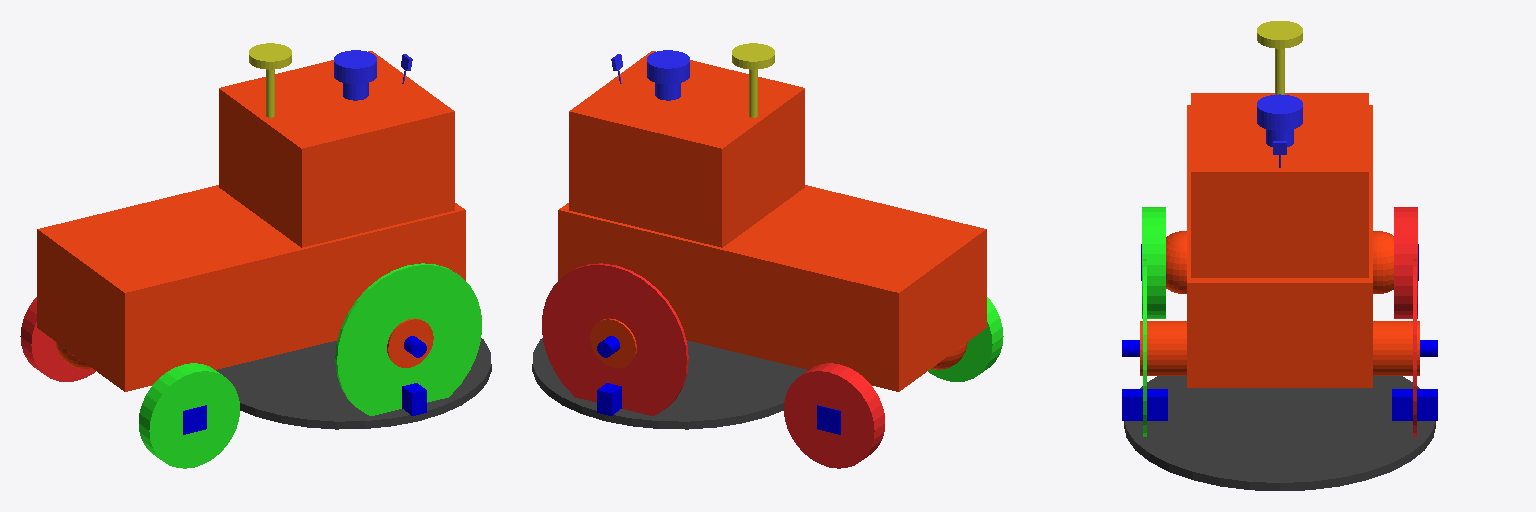
--- Facts derived from the render (not from the file) ---
The picture shows the robot from 3 angles, left to right: view 1: azimuth 30°, elevation 25°; view 2: azimuth 150°, elevation 25°; view 3: azimuth 270°, elevation 25°; orthographic projection.
Robot: robot — 13 links, 12 joints (4 continuous, 8 fixed); root link base_link; default pose: every joint at zero.
Links seen in each view (by area): view 1: chassis_link, right_wheel, base_footprint, right_caster_wheel, left_caster_wheel, laser_frame, gps_link; view 2: chassis_link, left_wheel, base_footprint, left_caster_wheel, right_caster_wheel, laser_frame, gps_link; view 3: chassis_link, base_footprint, left_caster_wheel, right_caster_wheel, left_wheel, right_wheel, laser_frame, gps_link.
Boxes of the visible links, left/top/right/bottom form: chassis_link: left=37, top=51, right=465, bottom=391; right_wheel: left=335, top=263, right=481, bottom=415; base_footprint: left=216, top=338, right=491, bottom=429; right_caster_wheel: left=139, top=363, right=239, bottom=468; left_caster_wheel: left=20, top=297, right=95, bottom=381; laser_frame: left=334, top=50, right=376, bottom=100; gps_link: left=249, top=43, right=291, bottom=117; chassis_link: left=558, top=51, right=986, bottom=391; left_wheel: left=542, top=263, right=688, bottom=415; base_footprint: left=532, top=338, right=807, bottom=429; left_caster_wheel: left=784, top=363, right=884, bottom=468; right_caster_wheel: left=928, top=297, right=1003, bottom=381; laser_frame: left=647, top=50, right=689, bottom=100; gps_link: left=732, top=43, right=774, bottom=117; chassis_link: left=1140, top=93, right=1419, bottom=387; base_footprint: left=1124, top=376, right=1435, bottom=490; left_caster_wheel: left=1394, top=207, right=1418, bottom=318; right_caster_wheel: left=1141, top=207, right=1165, bottom=318; left_wheel: left=1392, top=259, right=1437, bottom=436; right_wheel: left=1122, top=259, right=1167, bottom=436; laser_frame: left=1257, top=94, right=1302, bottom=146; gps_link: left=1257, top=21, right=1302, bottom=94.
Size in the robot's own frame: 1.03 by 0.679 by 0.852 metres.
0 mesh visuals loaded from 2 distinct referenced files (none loaded); not drawn: 4 (reference not matched to a file when rendering).

robot.urdf — robot:
<?xml version="1.0" ?>
<!-- =================================================================================== -->
<!-- |    This document was autogenerated by xacro from [local-path]/robot_ws/install/articubot_one/share/articubot_one/description/robot.urdf.xacro | -->
<!-- |    EDITING THIS FILE BY HAND IS NOT RECOMMENDED                                 | -->
<!-- =================================================================================== -->
<robot name="robot">
  <!-- See common Gazebo pugins in the world file -->
  <material name="white">
    <color rgba="1 1 1 1"/>
  </material>
  <material name="black">
    <color rgba="0 0 0 1"/>
  </material>
  <material name="shadow_grey">
    <color rgba="0.3 0.3 0.3 0.5"/>
  </material>
  <material name="red">
    <color rgba="1 0 0 1"/>
  </material>
  <material name="green">
    <color rgba="0 1 0 1"/>
  </material>
  <material name="blue">
    <color rgba="0 0 1 1"/>
  </material>
  <material name="sensor_blue">
    <color rgba="0.2 0.2 1 1"/>
  </material>
  <material name="sensor_yellow">
    <color rgba="0.8 0.8 0.2 1"/>
  </material>
  <material name="body_color">
    <color rgba="1 0.3 0.1 1"/>
  </material>
  <material name="port_red">
    <color rgba="1 0.2 0.2 1"/>
  </material>
  <material name="starboard_green">
    <color rgba="0.2 1 0.2 1"/>
  </material>
  <!-- Specify some standard inertial calculations https://en.wikipedia.org/wiki/List_of_moments_of_inertia -->
  <!-- These make use of xacro's mathematical functionality -->
  <!-- ********************** ROBOT BASE *********************************  -->
  <!-- The coordinate frame called base_link is rigidly attached to the robot root body.
         It is recommended to choose the robot waist as its root body.
         The base_link can be attached to the root in any arbitrary position or orientation;
         for every hardware platform there will be a different place on the base that provides an obvious point of reference.
         Note that REP 103 [1] specifies a preferred orientation for frames.
         See https://www.ros.org/reps/rep-0120.html#base-link -->
  <link name="base_link">
    <visual name="baselink_visual">
      <origin xyz="0 0 0"/>
      <geometry>
        <sphere radius="0.04"/>
      </geometry>
      <material name="red"/>
    </visual>
  </link>
  <!-- ****************** ROBOT BASE FOOTPRINT ***************************  -->
  <!-- The base_footprint is the representation of the robot position on the floor. 
         The floor is usually the level where the supporting leg rests, i.e. z = min(l_sole_z, r_sole_z) where l_sole_z and r_sole_z are the left and right sole height respecitvely.
         The translation component of the frame should be the barycenter of the feet projections on the floor.
         With respect to the odom frame, the roll and pitch angles should be zero and the yaw angle should correspond to the base_link yaw angle.
         Rationale: base_footprint provides a fairly stable 2D planar representation of the humanoid even while walking and swaying with the base_link. -->
  <!-- Define the center of the main robot chassis projected on the ground -->
  <link name="base_footprint">
    <visual name="footprint_visual">
      <origin xyz="0 0 0.01"/>
      <geometry>
        <!-- box size="${wheel_offset_y * 2 + wheel_thickness} ${wheel_offset_y * 2 + wheel_thickness} 0.02"/ -->
        <cylinder length="0.02" radius="0.33499999999999996"/>
      </geometry>
      <material name="shadow_grey"/>
    </visual>
  </link>
  <!-- The base footprint of the robot is located underneath the chassis -->
  <joint name="base_joint" type="fixed">
    <parent link="base_link"/>
    <child link="base_footprint"/>
    <origin rpy="0 0 0" xyz="0 0 -0.192"/>
  </joint>
  <!-- ********************** ROBOT BODY *********************************  -->
  <joint name="chassis_joint" type="fixed">
    <parent link="base_link"/>
    <child link="chassis_link"/>
    <origin xyz="-0.248 0 -0.01"/>
  </joint>
  <!-- CHASSIS LINK -->
  <link name="chassis_link">
    <visual name="chassis_visual">
      <!-- origin xyz="${chassis_length/2} 0 ${chassis_height/4}"/ -->
      <origin xyz="0 0 0.125"/>
      <geometry>
        <box size="0.9 0.4 0.25"/>
      </geometry>
      <material name="body_color"/>
    </visual>
    <visual name="chassis_top_visual">
      <origin xyz="0.225 0 0.375"/>
      <geometry>
        <box size="0.405 0.38 0.25"/>
      </geometry>
      <material name="body_color"/>
    </visual>
    <visual name="chassis_front_axle_left">
      <origin rpy="-1.5707963267948966 0 0" xyz="0.248 0.2 0"/>
      <geometry>
        <cylinder length="0.2" radius="0.06"/>
      </geometry>
      <material name="body_color"/>
    </visual>
    <visual name="chassis_front_axle_right">
      <origin rpy="1.5707963267948966 0 0" xyz="0.248 -0.2 0"/>
      <geometry>
        <cylinder length="0.2" radius="0.06"/>
      </geometry>
      <material name="body_color"/>
    </visual>
    <visual name="chassis_caster_joint_left">
      <origin rpy="0 0 0" xyz="-0.32 0.20800000000000002 -0.062"/>
      <geometry>
        <sphere radius="-0.06820000000000001"/>
      </geometry>
      <material name="body_color"/>
    </visual>
    <visual name="chassis_caster_joint_right">
      <origin rpy="0 0 0" xyz="-0.32 -0.20400000000000001 -0.062"/>
      <geometry>
        <sphere radius="-0.06820000000000001"/>
      </geometry>
      <material name="body_color"/>
    </visual>
    <collision>
      <origin rpy="0 0 0" xyz="0 0 0.25"/>
      <geometry>
        <box size="0.9 0.4 0.5"/>
      </geometry>
    </collision>
    <inertial>
      <origin rpy="0 0 0" xyz="0 0 0.25"/>
      <mass value="0.5"/>
      <inertia ixx="0.017083333333333332" ixy="0.0" ixz="0.0" iyy="0.04416666666666667" iyz="0.0" izz="0.04041666666666667"/>
    </inertial>
  </link>
  <!-- LEFT WHEEL LINK -->
  <joint name="left_wheel_joint" type="continuous">
    <parent link="chassis_link"/>
    <child link="left_wheel"/>
    <origin rpy="-1.5707963267948966 0 0" xyz="0.248 0.29 0"/>
    <axis xyz="0 0 1">
      <limit>
        <lower>-1.79769e+308</lower>
        <upper>1.79769e+308</upper>
      </limit>
    </axis>
  </joint>
  <link name="left_wheel">
    <visual name="left_wheel_tire_gz_visual">
      <origin rpy="1.5707963267948966 0 0" xyz="0 0 0"/>
      <geometry>
        <mesh filename="model://meshes/wheel_link.STL" scale="2.4384 0.9179999999999999 2.4384"/>
      </geometry>
      <material name="port_red"/>
    </visual>
    <visual name="left_wheel_tire_rviz_visual">
      <origin rpy="1.5707963267948966 0 0" xyz="0 0 0"/>
      <geometry>
        <mesh filename="package://articubot_one/description/meshes/wheel_link.STL" scale="2.4384 0.9179999999999999 2.4384"/>
      </geometry>
      <material name="port_red"/>
    </visual>
    <visual name="left_wheel_solid_visual">
      <geometry>
        <cylinder length="0.009" radius="0.192"/>
      </geometry>
      <material name="port_red"/>
    </visual>
    <visual name="left_wheel_axis_visual">
      <geometry>
        <cylinder length="0.099" radius="0.019200000000000002"/>
      </geometry>
      <material name="blue"/>
    </visual>
    <visual name="left_wheel_marker_visual">
      <origin rpy="0 0 0" xyz="0 0.1344 0"/>
      <geometry>
        <box size="0.038400000000000004 0.0576 0.099"/>
      </geometry>
      <material name="blue"/>
    </visual>
    <collision>
      <geometry>
        <cylinder length="0.09" radius="0.192"/>
      </geometry>
      <max_contacts>1</max_contacts>
      <surface>
        <friction>
          <ode>
            <mu>0.4</mu>
            <mu2>0.6</mu2>
          </ode>
        </friction>
        <bounce/>
        <contact>
          <ode>
            <min_depth>0.005</min_depth>
            <kp>1e8</kp>
          </ode>
        </contact>
      </surface>
    </collision>
    <inertial>
      <origin rpy="0 0 0" xyz="0 0 0"/>
      <mass value="1.0"/>
      <inertia ixx="0.009891" ixy="0.0" ixz="0.0" iyy="0.009891" iyz="0.0" izz="0.018432"/>
    </inertial>
  </link>
  <!-- RIGHT WHEEL LINK -->
  <joint name="right_wheel_joint" type="continuous">
    <parent link="chassis_link"/>
    <child link="right_wheel"/>
    <origin rpy="1.5707963267948966 0 0" xyz="0.248 -0.29 0"/>
    <axis xyz="0 0 -1">
      <limit>
        <lower>-1.79769e+308</lower>
        <upper>1.79769e+308</upper>
      </limit>
    </axis>
  </joint>
  <link name="right_wheel">
    <visual name="right_wheel_tire_gz_visual">
      <origin rpy="-1.5707963267948966 0 0" xyz="0 0 0"/>
      <geometry>
        <mesh filename="model://meshes/wheel_link.STL" scale="2.4384 0.9179999999999999 2.4384"/>
      </geometry>
      <material name="starboard_green"/>
    </visual>
    <visual name="right_wheel_tire_rviz_visual">
      <origin rpy="-1.5707963267948966 0 0" xyz="0 0 0"/>
      <geometry>
        <mesh filename="package://articubot_one/description/meshes/wheel_link.STL" scale="2.4384 0.9179999999999999 2.4384"/>
      </geometry>
      <material name="starboard_green"/>
    </visual>
    <visual name="right_wheel_solid_visual">
      <geometry>
        <cylinder length="0.009" radius="0.192"/>
      </geometry>
      <material name="starboard_green"/>
    </visual>
    <visual name="right_wheel_axis_visual">
      <geometry>
        <cylinder length="0.099" radius="0.019200000000000002"/>
      </geometry>
      <material name="blue"/>
    </visual>
    <visual name="right_wheel_marker_visual">
      <origin rpy="0 0 0" xyz="0 -0.1344 0"/>
      <geometry>
        <box size="0.038400000000000004 0.0576 0.099"/>
      </geometry>
      <material name="blue"/>
    </visual>
    <collision>
      <geometry>
        <cylinder length="0.09" radius="0.192"/>
      </geometry>
      <max_contacts>1</max_contacts>
      <surface>
        <friction>
          <ode>
            <mu>0.4</mu>
            <mu2>0.6</mu2>
          </ode>
        </friction>
        <bounce/>
        <contact>
          <ode>
            <min_depth>0.005</min_depth>
            <kp>1e8</kp>
          </ode>
        </contact>
      </surface>
    </collision>
    <inertial>
      <origin rpy="0 0 0" xyz="0 0 0"/>
      <mass value="1.0"/>
      <inertia ixx="0.009891" ixy="0.0" ixz="0.0" iyy="0.009891" iyz="0.0" izz="0.018432"/>
    </inertial>
  </link>
  <!-- CASTER WHEELS LINKS -->
  <joint name="left_caster_wheel_joint" type="continuous">
    <parent link="chassis_link"/>
    <child link="left_caster_wheel"/>
    <origin rpy="1.5707963267948966 0 0" xyz="-0.32 0.27 -0.062"/>
    <axis xyz="0 0 1"/>
  </joint>
  <link name="left_caster_wheel">
    <visual name="left_caster_visual">
      <geometry>
        <cylinder length="0.05" radius="0.12"/>
      </geometry>
      <material name="port_red"/>
    </visual>
    <visual name="left_caster_marker_visual">
      <geometry>
        <box size="0.06 0.06 0.05500000000000001"/>
      </geometry>
      <material name="blue"/>
    </visual>
    <collision>
      <geometry>
        <cylinder length="0.05" radius="0.12"/>
      </geometry>
      <surface>
        <friction>
          <ode>
            <mu>0</mu>
            <mu2>0</mu2>
            <slip1>1.0</slip1>
            <slip2>1.0</slip2>
          </ode>
        </friction>
      </surface>
    </collision>
    <inertial>
      <origin rpy="0 0 0" xyz="0 0 0"/>
      <mass value="0.3"/>
      <inertia ixx="0.0011424999999999999" ixy="0.0" ixz="0.0" iyy="0.0011424999999999999" iyz="0.0" izz="0.00216"/>
    </inertial>
  </link>
  <joint name="right_caster_wheel_joint" type="continuous">
    <parent link="chassis_link"/>
    <child link="right_caster_wheel"/>
    <origin rpy="1.5707963267948966 0 0" xyz="-0.32 -0.27 -0.062"/>
    <axis xyz="0 0 -1"/>
  </joint>
  <link name="right_caster_wheel">
    <visual name="right_caster_visual">
      <geometry>
        <cylinder length="0.05" radius="0.12"/>
      </geometry>
      <material name="starboard_green"/>
    </visual>
    <visual name="right_caster_marker_visual">
      <geometry>
        <box size="0.06 0.06 0.05500000000000001"/>
      </geometry>
      <material name="blue"/>
    </visual>
    <collision>
      <geometry>
        <cylinder length="0.05" radius="0.12"/>
      </geometry>
      <surface>
        <friction>
          <ode>
            <mu>0</mu>
            <mu2>0</mu2>
            <slip1>1.0</slip1>
            <slip2>1.0</slip2>
          </ode>
        </friction>
      </surface>
    </collision>
    <inertial>
      <origin rpy="0 0 0" xyz="0 0 0"/>
      <mass value="0.3"/>
      <inertia ixx="0.0011424999999999999" ixy="0.0" ixz="0.0" iyy="0.0011424999999999999" iyz="0.0" izz="0.00216"/>
    </inertial>
  </link>
  <ros2_control name="DraggerRobot" type="system">
    <!-- Wheel geometry information - see controllers_*.yaml -->
    <hardware>
      <plugin>gz_ros2_control/GazeboSimSystem</plugin>
    </hardware>
    <joint name="left_wheel_joint">
      <command_interface name="velocity">
        <param name="min">-10</param>
        <param name="max">10</param>
      </command_interface>
      <state_interface name="velocity">
        <param name="initial_value">0.0</param>
      </state_interface>
      <state_interface name="position">
        <param name="initial_value">0.0</param>
      </state_interface>
      <!-- state_interface name="effort">
                <param name="initial_value">0.0</param>
            </state_interface -->
    </joint>
    <joint name="right_wheel_joint">
      <command_interface name="velocity">
        <param name="min">-10</param>
        <param name="max">10</param>
      </command_interface>
      <state_interface name="velocity">
        <param name="initial_value">0.0</param>
      </state_interface>
      <state_interface name="position">
        <param name="initial_value">0.0</param>
      </state_interface>
      <!-- state_interface name="effort">
                <param name="initial_value">0.0</param>
            </state_interface -->
    </joint>
    <!-- we need this for Rviz to reflect rotations of joints published by broad_cont in Gazebo -->
    <joint name="left_caster_wheel_joint">
      <state_interface name="velocity">
        <param name="initial_value">0.0</param>
      </state_interface>
      <state_interface name="position">
        <param name="initial_value">0.0</param>
      </state_interface>
    </joint>
    <joint name="right_caster_wheel_joint">
      <state_interface name="velocity">
        <param name="initial_value">0.0</param>
      </state_interface>
      <state_interface name="position">
        <param name="initial_value">0.0</param>
      </state_interface>
    </joint>
  </ros2_control>
  <gazebo>
    <plugin filename="libgz_ros2_control-system.so" name="gz_ros2_control::GazeboSimROS2ControlPlugin">
      <!-- the following are just default parameters anyway. Skip them unless you want to reassign them:
            <robot_param>robot_description</robot_param>
            <robot_param_node>robot_state_publisher</robot_param_node> -->
      <parameters>[local-path]/robot_ws/install/articubot_one/share/articubot_one/config/gaz_ros2_ctl_use_sim.yaml</parameters>
      <parameters>[local-path]/robot_ws/install/articubot_one/share/articubot_one/config/controllers_sim.yaml</parameters>
    </plugin>
  </gazebo>
  <!-- *********************** IMU SETUP *********************************  -->
  <!-- Each sensor must be attached to a link.                              -->
  <joint name="imu_joint" type="fixed">
    <parent link="chassis_link"/>
    <child link="imu_link"/>
    <!-- we place IMU between the wheels -->
    <origin rpy="0 0 0" xyz="0.248 0 0.04"/>
  </joint>
  <link name="imu_link">
    <visual>
      <geometry>
        <box size="0.1 0.1 0.1"/>
      </geometry>
      <material name="sensor_blue"/>
    </visual>
  </link>
  <!-- gz model -m dragger -s imu_sensor -->
  <gazebo reference="imu_link">
    <sensor name="imu_link" type="imu">
      <always_on>1</always_on>
      <topic>imu/data</topic>
      <!-- future Gazebo versions might require "<frame_id>" here. Must reference an actual link in .xacro -->
      <gz_frame_id>imu_link</gz_frame_id>
      <update_rate>250</update_rate>
      <imu>
        <orientation_reference_frame>
          <localization>ENU</localization>
          <!-- custom_rpy parent_frame='world'>1.570795 0 0</custom_rpy -->
        </orientation_reference_frame>
        <enable_orientation>1</enable_orientation>
        <angular_velocity>
          <x>
            <noise type="gaussian">
              <mean>0</mean>
              <stddev>0.009</stddev>
              <bias_mean>0.00075</bias_mean>
              <bias_stddev>0.005</bias_stddev>
              <dynamic_bias_stddev>0.00002</dynamic_bias_stddev>
              <dynamic_bias_correlation_time>400.0</dynamic_bias_correlation_time>
              <precision>0.00025</precision>
            </noise>
          </x>
          <y>
            <noise type="gaussian">
              <mean>0</mean>
              <stddev>0.009</stddev>
              <bias_mean>0.00075</bias_mean>
              <bias_stddev>0.005</bias_stddev>
              <dynamic_bias_stddev>0.00002</dynamic_bias_stddev>
              <dynamic_bias_correlation_time>400.0</dynamic_bias_correlation_time>
              <precision>0.00025</precision>
            </noise>
          </y>
          <z>
            <noise type="gaussian">
              <mean>0</mean>
              <stddev>0.009</stddev>
              <bias_mean>0.00075</bias_mean>
              <bias_stddev>0.005</bias_stddev>
              <dynamic_bias_stddev>0.00002</dynamic_bias_stddev>
              <dynamic_bias_correlation_time>400.0</dynamic_bias_correlation_time>
              <precision>0.00025</precision>
            </noise>
          </z>
        </angular_velocity>
        <linear_acceleration>
          <x>
            <noise type="gaussian">
              <mean>0</mean>
              <stddev>0.021</stddev>
              <bias_mean>0.05</bias_mean>
              <bias_stddev>0.0075</bias_stddev>
              <dynamic_bias_stddev>0.000375</dynamic_bias_stddev>
              <dynamic_bias_correlation_time>175.0</dynamic_bias_correlation_time>
              <precision>0.005</precision>
            </noise>
          </x>
          <y>
            <noise type="gaussian">
              <mean>0</mean>
              <stddev>0.021</stddev>
              <bias_mean>0.05</bias_mean>
              <bias_stddev>0.0075</bias_stddev>
              <dynamic_bias_stddev>0.000375</dynamic_bias_stddev>
              <dynamic_bias_correlation_time>175.0</dynamic_bias_correlation_time>
              <precision>0.005</precision>
            </noise>
          </y>
          <z>
            <noise type="gaussian">
              <mean>0</mean>
              <stddev>0.021</stddev>
              <bias_mean>0.05</bias_mean>
              <bias_stddev>0.0075</bias_stddev>
              <dynamic_bias_stddev>0.000375</dynamic_bias_stddev>
              <dynamic_bias_correlation_time>175.0</dynamic_bias_correlation_time>
              <precision>0.005</precision>
            </noise>
          </z>
        </linear_acceleration>
      </imu>
    </sensor>
  </gazebo>
  <!-- ******************* MAGNETOMETER SETUP ****************************  -->
  <!-- Each sensor must be attached to a link.                              -->
  <joint name="magnetometer_joint" type="fixed">
    <parent link="chassis_link"/>
    <child link="magnetometer_link"/>
    <!-- we place Magnetometer next to IMU between the wheels -->
    <origin rpy="0 0 0" xyz="0.248 0 0.03"/>
  </joint>
  <link name="magnetometer_link">
    <visual>
      <geometry>
        <box size="0.1 0.1 0.1"/>
      </geometry>
      <material name="sensor_blue"/>
    </visual>
  </link>
  <gazebo reference="magnetometer_link">
    <sensor name="magnetometer" type="magnetometer">
      <always_on>1</always_on>
      <update_rate>100</update_rate>
      <visualize>true</visualize>
      <topic>magnetometer</topic>
      <enable_metrics>true</enable_metrics>
      <magnetometer>
        <x>
          <noise type="gaussian">
            <mean>0.0</mean>
            <stddev>0.001</stddev>
          </noise>
        </x>
        <y>
          <noise type="gaussian">
            <mean>0.0</mean>
            <stddev>0.001</stddev>
          </noise>
        </y>
        <z>
          <noise type="gaussian">
            <mean>0.0</mean>
            <stddev>0.001</stddev>
          </noise>
        </z>
      </magnetometer>
    </sensor>
  </gazebo>
  <!-- ********************* LIDAR SETUP *********************************  -->
  <!-- Each sensor must be attached to a link.                              -->
  <joint name="laser_joint" type="fixed">
    <parent link="chassis_link"/>
    <child link="laser_frame"/>
    <origin rpy="0 0 0" xyz="0.275 0 0.57"/>
  </joint>
  <!-- the name "laser_frame" should correspond to /scan topic header->frame_id as defined in *.launch.py -->
  <link name="laser_frame">
    <visual>
      <geometry>
        <cylinder length="0.04" radius="0.05"/>
      </geometry>
      <material name="sensor_blue"/>
    </visual>
    <visual>
      <origin xyz="0 0 -0.05"/>
      <geometry>
        <cylinder length="0.1" radius="0.03"/>
      </geometry>
      <material name="sensor_blue"/>
    </visual>
    <collision>
      <geometry>
        <cylinder length="0.04" radius="0.05"/>
      </geometry>
    </collision>
    <inertial>
      <origin rpy="0 0 0" xyz="0 0 0"/>
      <mass value="0.1"/>
      <inertia ixx="7.583333333333335e-05" ixy="0.0" ixz="0.0" iyy="7.583333333333335e-05" iyz="0.0" izz="0.00012500000000000003"/>
    </inertial>
  </link>
  <!-- gz model -m dragger -s front_laser -->
  <gazebo reference="laser_frame">
    <!-- name must be "laser_frame", specifically for lasers. Must reference an actual link in .xacro -->
    <sensor name="laser_frame" type="gpu_lidar">
      <pose>0 0 0 0 0 0</pose>
      <always_on>1</always_on>
      <update_rate>10</update_rate>
      <topic>scan</topic>
      <!-- future Gazebo versions might require "<frame_id>" here. Must reference an actual link in .xacro -->
      <gz_frame_id>laser_frame</gz_frame_id>
      <ray>
        <scan>
          <horizontal>
            <samples>360</samples>
            <resolution>1</resolution>
            <min_angle>-3.141592653589793</min_angle>
            <max_angle>3.141592653589793</max_angle>
          </horizontal>
          <vertical>
            <samples>1</samples>
            <resolution>1</resolution>
            <min_angle>0.0</min_angle>
            <max_angle>0.0</max_angle>
          </vertical>
        </scan>
        <range>
          <min>0.3</min>
          <max>12.0</max>
          <resolution>0.01</resolution>
        </range>
        <noise>
          <type>gaussian</type>
          <mean>0</mean>
          <stddev>0.01</stddev>
        </noise>
      </ray>
      <visualize>true</visualize>
    </sensor>
  </gazebo>
  <joint name="camera_joint" type="fixed">
    <parent link="chassis_link"/>
    <child link="camera_link"/>
    <origin rpy="0 0.18 0" xyz="0.41000000000000003 0 0.55"/>
  </joint>
  <link name="camera_link">
    <visual>
      <geometry>
        <box size="0.010 0.03 0.03"/>
      </geometry>
      <material name="sensor_blue"/>
    </visual>
    <visual>
      <origin xyz="0 0 -0.05"/>
      <geometry>
        <cylinder length="0.1" radius="0.002"/>
      </geometry>
      <material name="sensor_blue"/>
    </visual>
  </link>
  <joint name="camera_optical_joint" type="fixed">
    <parent link="camera_link"/>
    <child link="camera_link_optical"/>
    <origin rpy="0 0 0" xyz="0 0 0"/>
  </joint>
  <link name="camera_link_optical">
    </link>
  <!-- gz model -m dragger -s rgb_camera -->
  <gazebo reference="camera_link_optical">
    <sensor name="rgb_camera" type="camera">
      <pose>0 0 0 0 0 0</pose>
      <always_on>true</always_on>
      <topic>camera</topic>
      <!-- future Gazebo versions might require "<frame_id>" here. Must reference an actual link in .xacro -->
      <!-- see <optical_frame_id> below     <gz_frame_id>camera_link_optical</gz_frame_id> -->
      <update_rate>30</update_rate>
      <enable_metrics>false</enable_metrics>
      <camera name="__default__">
        <pose>0 0 0 0 0 0</pose>
        <horizontal_fov>1.0469999999999999</horizontal_fov>
        <image>
          <width>320</width>
          <height>240</height>
          <format>RGB_INT8</format>
          <anti_aliasing>4</anti_aliasing>
        </image>
        <camera_info_topic>__default__</camera_info_topic>
        <trigger_topic/>
        <triggered>false</triggered>
        <clip>
          <near>0.10000000000000001</near>
          <far>100</far>
        </clip>
        <save enabled="false">
          <path>__default__</path>
        </save>
        <visibility_mask>[number redacted]</visibility_mask>
        <noise>
          <type>none</type>
          <mean>0</mean>
          <stddev>0</stddev>
        </noise>
        <distortion>
          <k1>0</k1>
          <k2>0</k2>
          <k3>0</k3>
          <p1>0</p1>
          <p2>0</p2>
          <center>0.5 0.5</center>
        </distortion>
        <lens>
          <type>stereographic</type>
          <scale_to_hfov>true</scale_to_hfov>
          <cutoff_angle>1.5707963267948966</cutoff_angle>
          <env_texture_size>256</env_texture_size>
        </lens>
        <optical_frame_id>camera_link_optical</optical_frame_id>
      </camera>
    </sensor>
  </gazebo>
  <joint name="gps_joint" type="fixed">
    <parent link="chassis_link"/>
    <child link="gps_link"/>
    <origin rpy="0 0 0" xyz="0.05 0 0.65"/>
  </joint>
  <link name="gps_link">
    <visual>
      <geometry>
        <cylinder length="0.02" radius="0.05"/>
      </geometry>
      <material name="sensor_yellow"/>
    </visual>
    <visual>
      <origin xyz="0 0 -0.1"/>
      <geometry>
        <cylinder length="0.2" radius="0.01"/>
      </geometry>
      <material name="sensor_yellow"/>
    </visual>
    <collision>
      <geometry>
        <cylinder length="0.04" radius="0.05"/>
      </geometry>
    </collision>
  </link>
  <!-- See https://medium.com/@bytesrobotics/a-review-of-the-ros2-urdf-gazebo-sensor-91e947c633d7
             https://docs.nav2.org/tutorials/docs/navigation2_with_gps.html
             http://sdformat.org/spec?elem=sensor -->
  <!-- gz model -m dragger -s gps_sensor -->
  <gazebo reference="gps_link">
    <sensor name="gps_sensor" type="gps">
      <always_on>true</always_on>
      <!-- topic defined in .../config/gz_ros_bridge.yaml -->
      <topic>navsat</topic>
      <!-- future Gazebo versions might require "<frame_id>" here. Must reference an actual link in .xacro -->
      <gz_frame_id>gps_link</gz_frame_id>
      <frame_id>gps_link</frame_id>
      <pose> 0 0 0 0 0 0 </pose>
      <visualize>false</visualize>
      <update_rate>5</update_rate>
      <gps>
        <position_sensing>
          <horizontal>
            <noise type="gaussian_quantized">
              <mean>0.0</mean>
              <!-- the standard deviation of the Gaussian distribution from which noise values are drawn -->
              <stddev>1.0e-6</stddev>
              <!-- the mean of the Gaussian distribution from which bias values are drawn -->
              <bias_mean>0.0</bias_mean>
              <!-- the standard deviation of the Gaussian distribution from which bias values are drawn -->
              <bias_stddev>1.0e-6</bias_stddev>
              <!-- the standard deviation of the noise used to drive a process to model slow variations in a sensor bias -->
              <dynamic_bias_stddev>1.0e-6</dynamic_bias_stddev>
              <!-- the correlation time in seconds of the noise used to drive a process to model slow variations in a sensor bias.
                                 A typical value, when used, would be on the order of 3600 seconds (1 hour) -->
              <dynamic_bias_correlation_time>3600</dynamic_bias_correlation_time>
              <!-- For type "gaussian_quantized", the precision of output signals.
                                 A value of zero implies infinite precision / no quantization -->
              <precision>2.0e-7</precision>
            </noise>
          </horizontal>
          <vertical>
            <noise type="gaussian_quantized">
              <mean>0.0</mean>
              <stddev>1.0e-16</stddev>
              <bias_mean>0.0</bias_mean>
              <bias_stddev>0.0</bias_stddev>
              <dynamic_bias_stddev>0.0</dynamic_bias_stddev>
              <dynamic_bias_correlation_time>3600</dynamic_bias_correlation_time>
              <precision>0.0</precision>
            </noise>
          </vertical>
        </position_sensing>
      </gps>
    </sensor>
  </gazebo>
  <!-- xacro:include filename="face.xacro" / -->
</robot>
